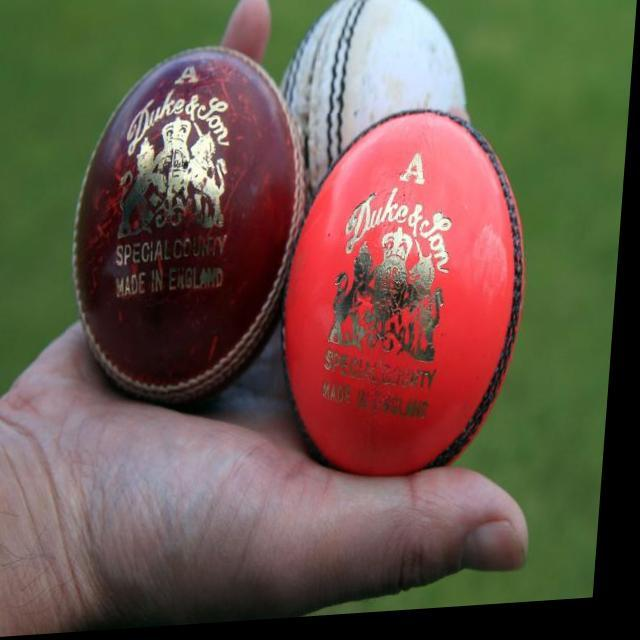cricket ball: (287, 114, 530, 483), (77, 48, 311, 411)
